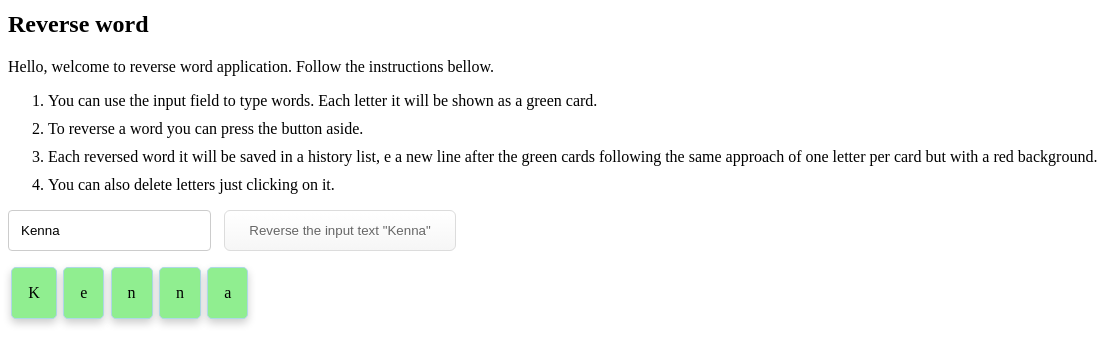
Scenario: Test CardContainer component › Change first letter at InputField it will change first letter at cards
Replace the text in the field with "Tenna" at (110, 230), box [8, 210, 211, 251]
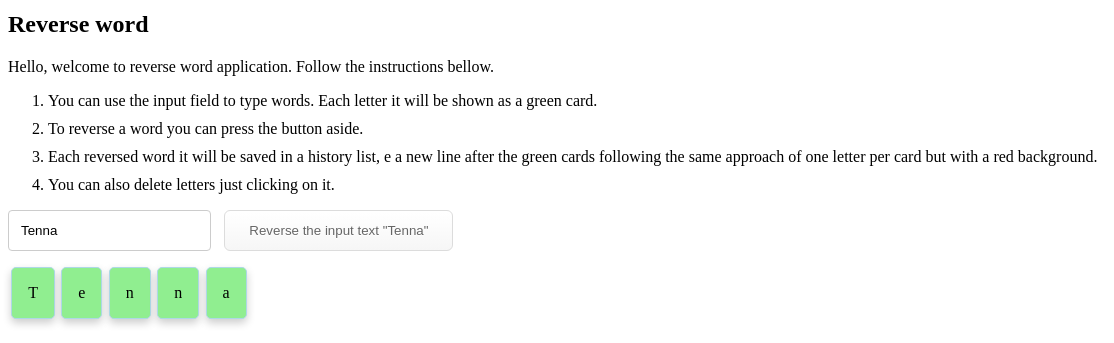
Check: the text "T" is shown, box [11, 267, 55, 319]
